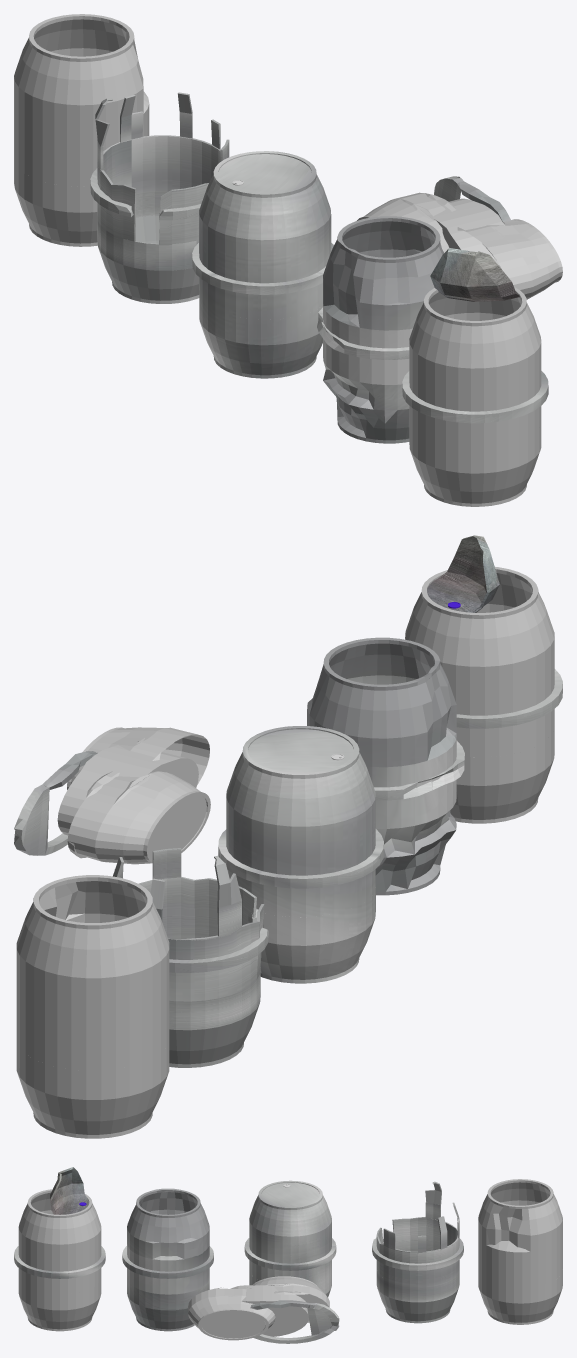
Rendered from blnder barrels.fbx.
3 views of the same model, one above another, from view 1: azimuth 30°, elevation 25°; view 2: azimuth 150°, elevation 25°; view 3: azimuth 270°, elevation 25° (orthographic). The views are drawn at different scales.
Visible parts, largest first — view 1: b1 pt.002, b6.001, b3 pt.001, b2 pt.003, b5.003, b3 pt.002, b5, b1 pt, b3 pt, b1 pt.001, b6.002, b6.003 (+12 smaller); view 2: b6.001, b1 pt.002, b2 pt.003, b3 pt.001, b4, b6.002, b6.003, b5.003, b1 pt, b1 pt.001, b3 pt.002, b5 (+12 smaller); view 3: b6.001, b2 pt.003, b1 pt.002, b3 pt.001, b5.003, b4.002, b6.002, b6.003, b5, b3 pt.002, b2 pt.001, b3 pt (+12 smaller).
Boxes of the visible parts, left/top/right/bottom form: b1 pt.002: left=199, top=151, right=331, bottom=265; b6.001: left=14, top=14, right=149, bottom=131; b3 pt.001: left=409, top=287, right=541, bottom=393; b2 pt.003: left=323, top=216, right=443, bottom=330; b5.003: left=97, top=135, right=220, bottom=245; b3 pt.002: left=409, top=420, right=541, bottom=506; b5: left=97, top=191, right=199, bottom=303; b1 pt: left=199, top=295, right=322, bottom=378; b3 pt: left=409, top=366, right=541, bottom=448; b1 pt.001: left=199, top=236, right=331, bottom=319; b6.002: left=14, top=103, right=149, bottom=186; b6.003: left=14, top=159, right=97, bottom=246; b6.001: left=16, top=875, right=169, bottom=1007; b1 pt.002: left=226, top=726, right=375, bottom=855; b2 pt.003: left=307, top=637, right=456, bottom=767; b3 pt.001: left=405, top=567, right=554, bottom=695; b4: left=67, top=771, right=210, bottom=864; b6.002: left=16, top=979, right=169, bottom=1070; b6.003: left=16, top=1042, right=169, bottom=1138; b5.003: left=138, top=877, right=264, bottom=1001; b1 pt: left=260, top=884, right=375, bottom=983; b1 pt.001: left=226, top=826, right=375, bottom=917; b3 pt.002: left=450, top=727, right=554, bottom=823; b5: left=169, top=967, right=260, bottom=1067; b6.001: left=478, top=1179, right=562, bottom=1252; b2 pt.003: left=127, top=1188, right=209, bottom=1260; b1 pt.002: left=249, top=1180, right=331, bottom=1252; b3 pt.001: left=18, top=1189, right=101, bottom=1260; b5.003: left=376, top=1217, right=459, bottom=1286; b4.002: left=188, top=1287, right=275, bottom=1340; b6.002: left=478, top=1235, right=562, bottom=1287; b6.003: left=478, top=1270, right=562, bottom=1324; b5: left=376, top=1269, right=459, bottom=1323; b3 pt.002: left=18, top=1278, right=101, bottom=1331; b2 pt.001: left=127, top=1278, right=209, bottom=1331; b3 pt: left=18, top=1244, right=101, bottom=1294.
Bounding box in the file's own units: 502 × 391 × 1325.
